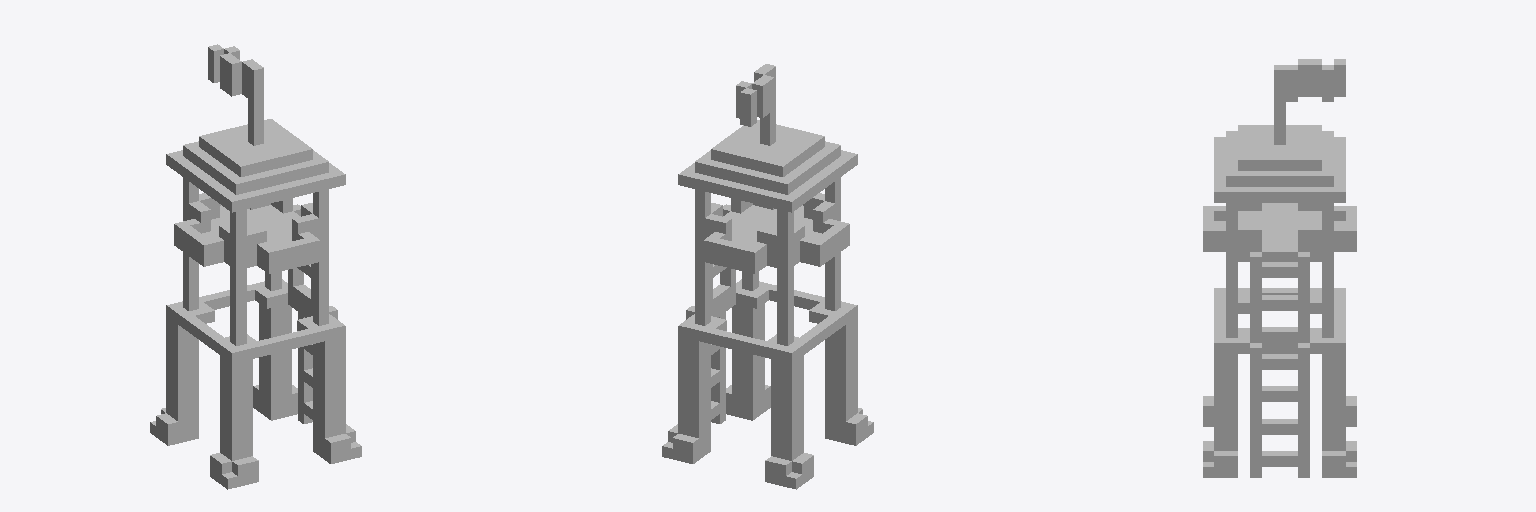
The model's file is bashnya2 (1).obj.
3 views of the same model, side by side, from view 1: azimuth 30°, elevation 25°; view 2: azimuth 150°, elevation 25°; view 3: azimuth 270°, elevation 25° (orthographic).
Visible parts, largest first — view 1: object 1; view 2: object 1; view 3: object 1.
Boxes of the visible parts, box(x1,y1,x2,y2) form: object 1: box(150, 44, 361, 489); object 1: box(662, 64, 873, 489); object 1: box(1203, 59, 1356, 477).
Size of the model in its own units: 1.3 by 3.5 by 1.3.